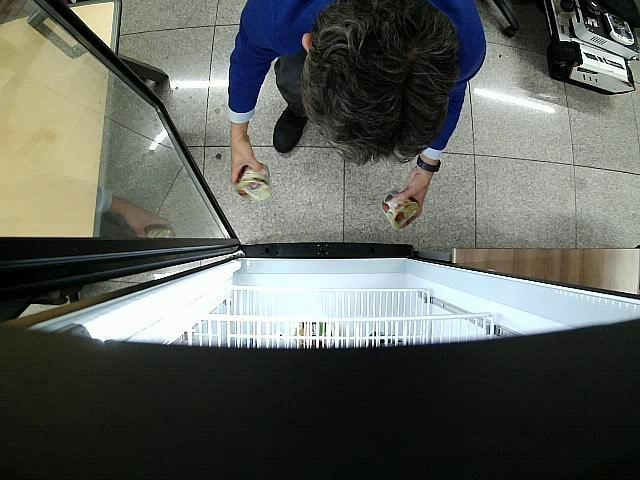04_chapagetti_S: (382, 190, 419, 229), (236, 163, 272, 202)
